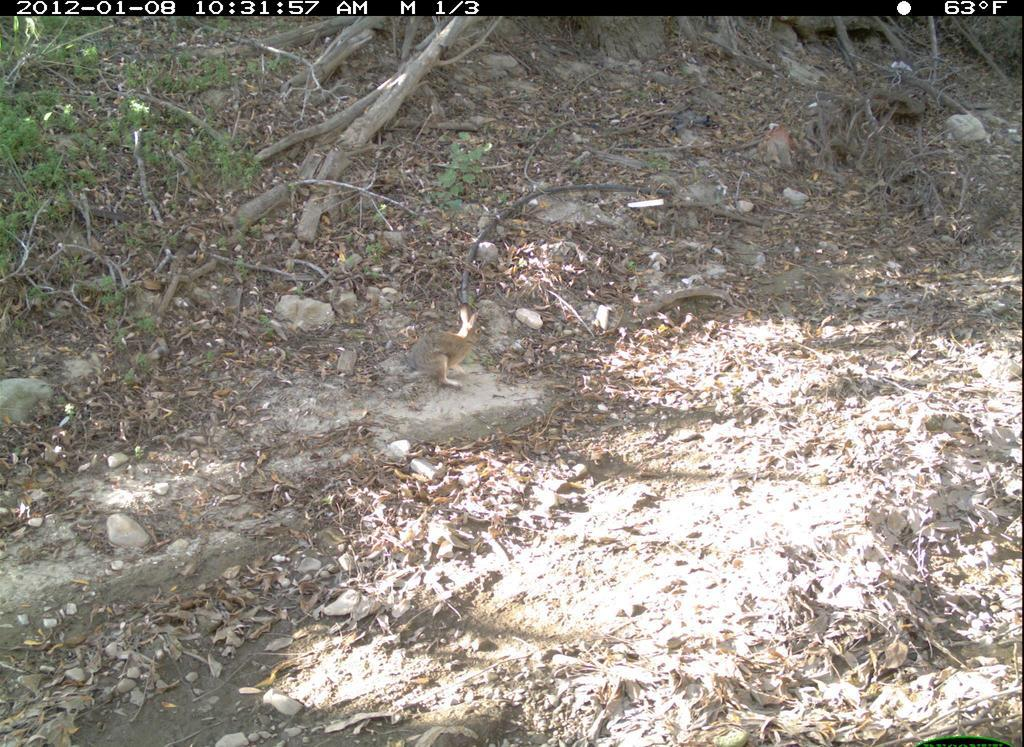rabbit: (404, 303, 498, 397)
